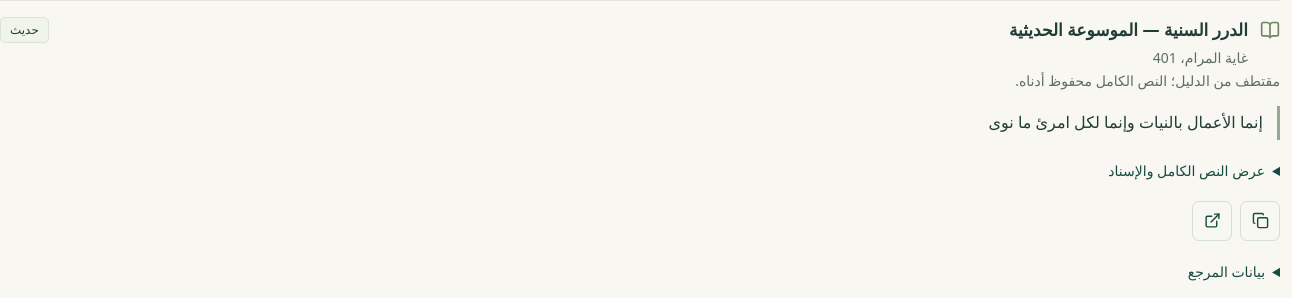
Test: hadith-only compact user controls › copies the exact displayed source excerpt, reports success briefly and never fetches Dorar
Click the button named "نسخ نص الحديث" at (1260, 221), box [1240,201,1280,241]
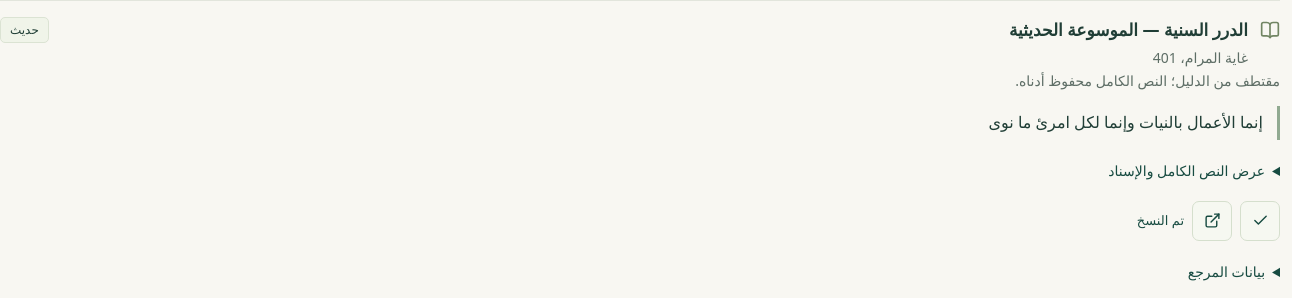
Expected: the message reads "تم النسخ", [1137,211,1184,229]
// A second copy schedules its feedback timer under the fake clock.
Click the button named "نسخ نص الحديث" at (1260, 221), box [1240,201,1280,241]
Wait 2500 ms
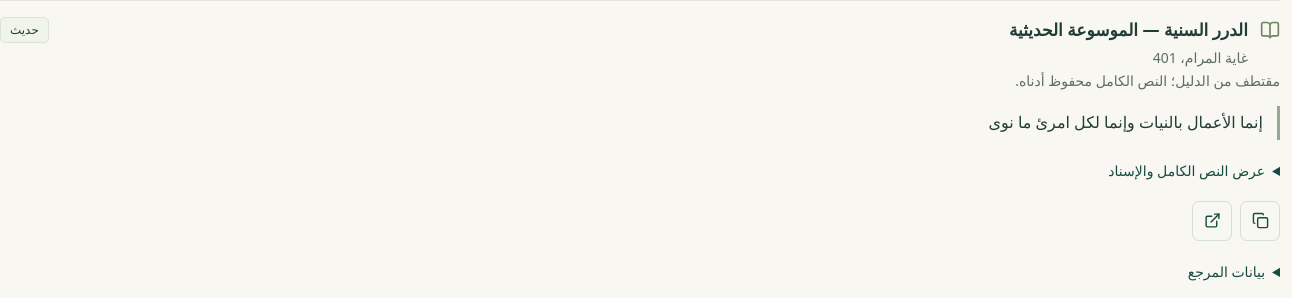
Expected: the message "تم النسخ" is gone
